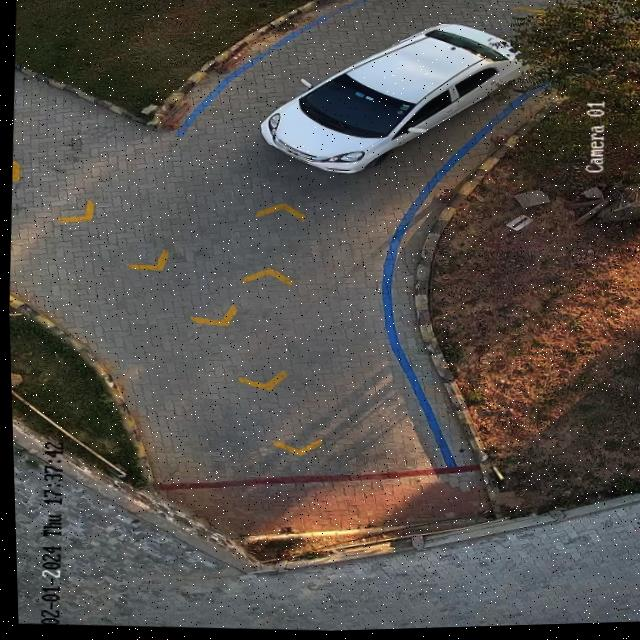car: (261, 26, 521, 176)
